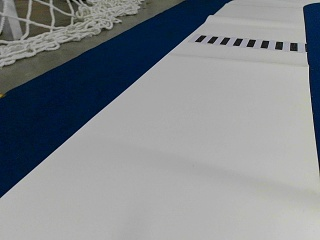crosswalk: (194, 34, 300, 51)
